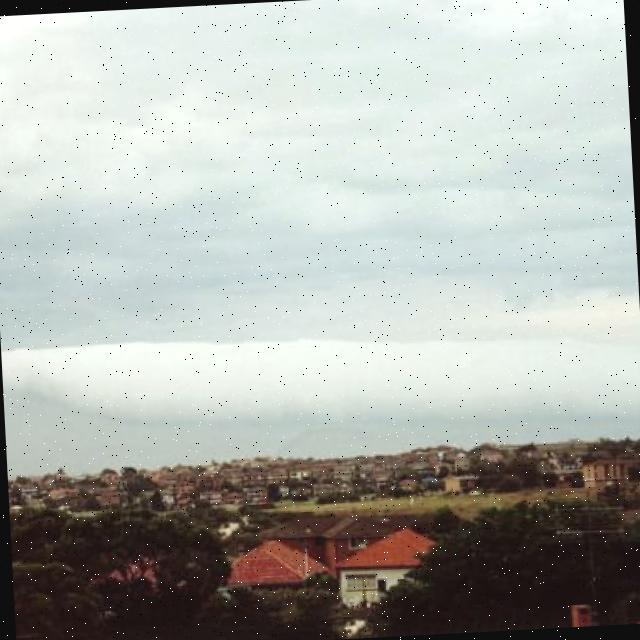Sc: (1, 1, 640, 438)
